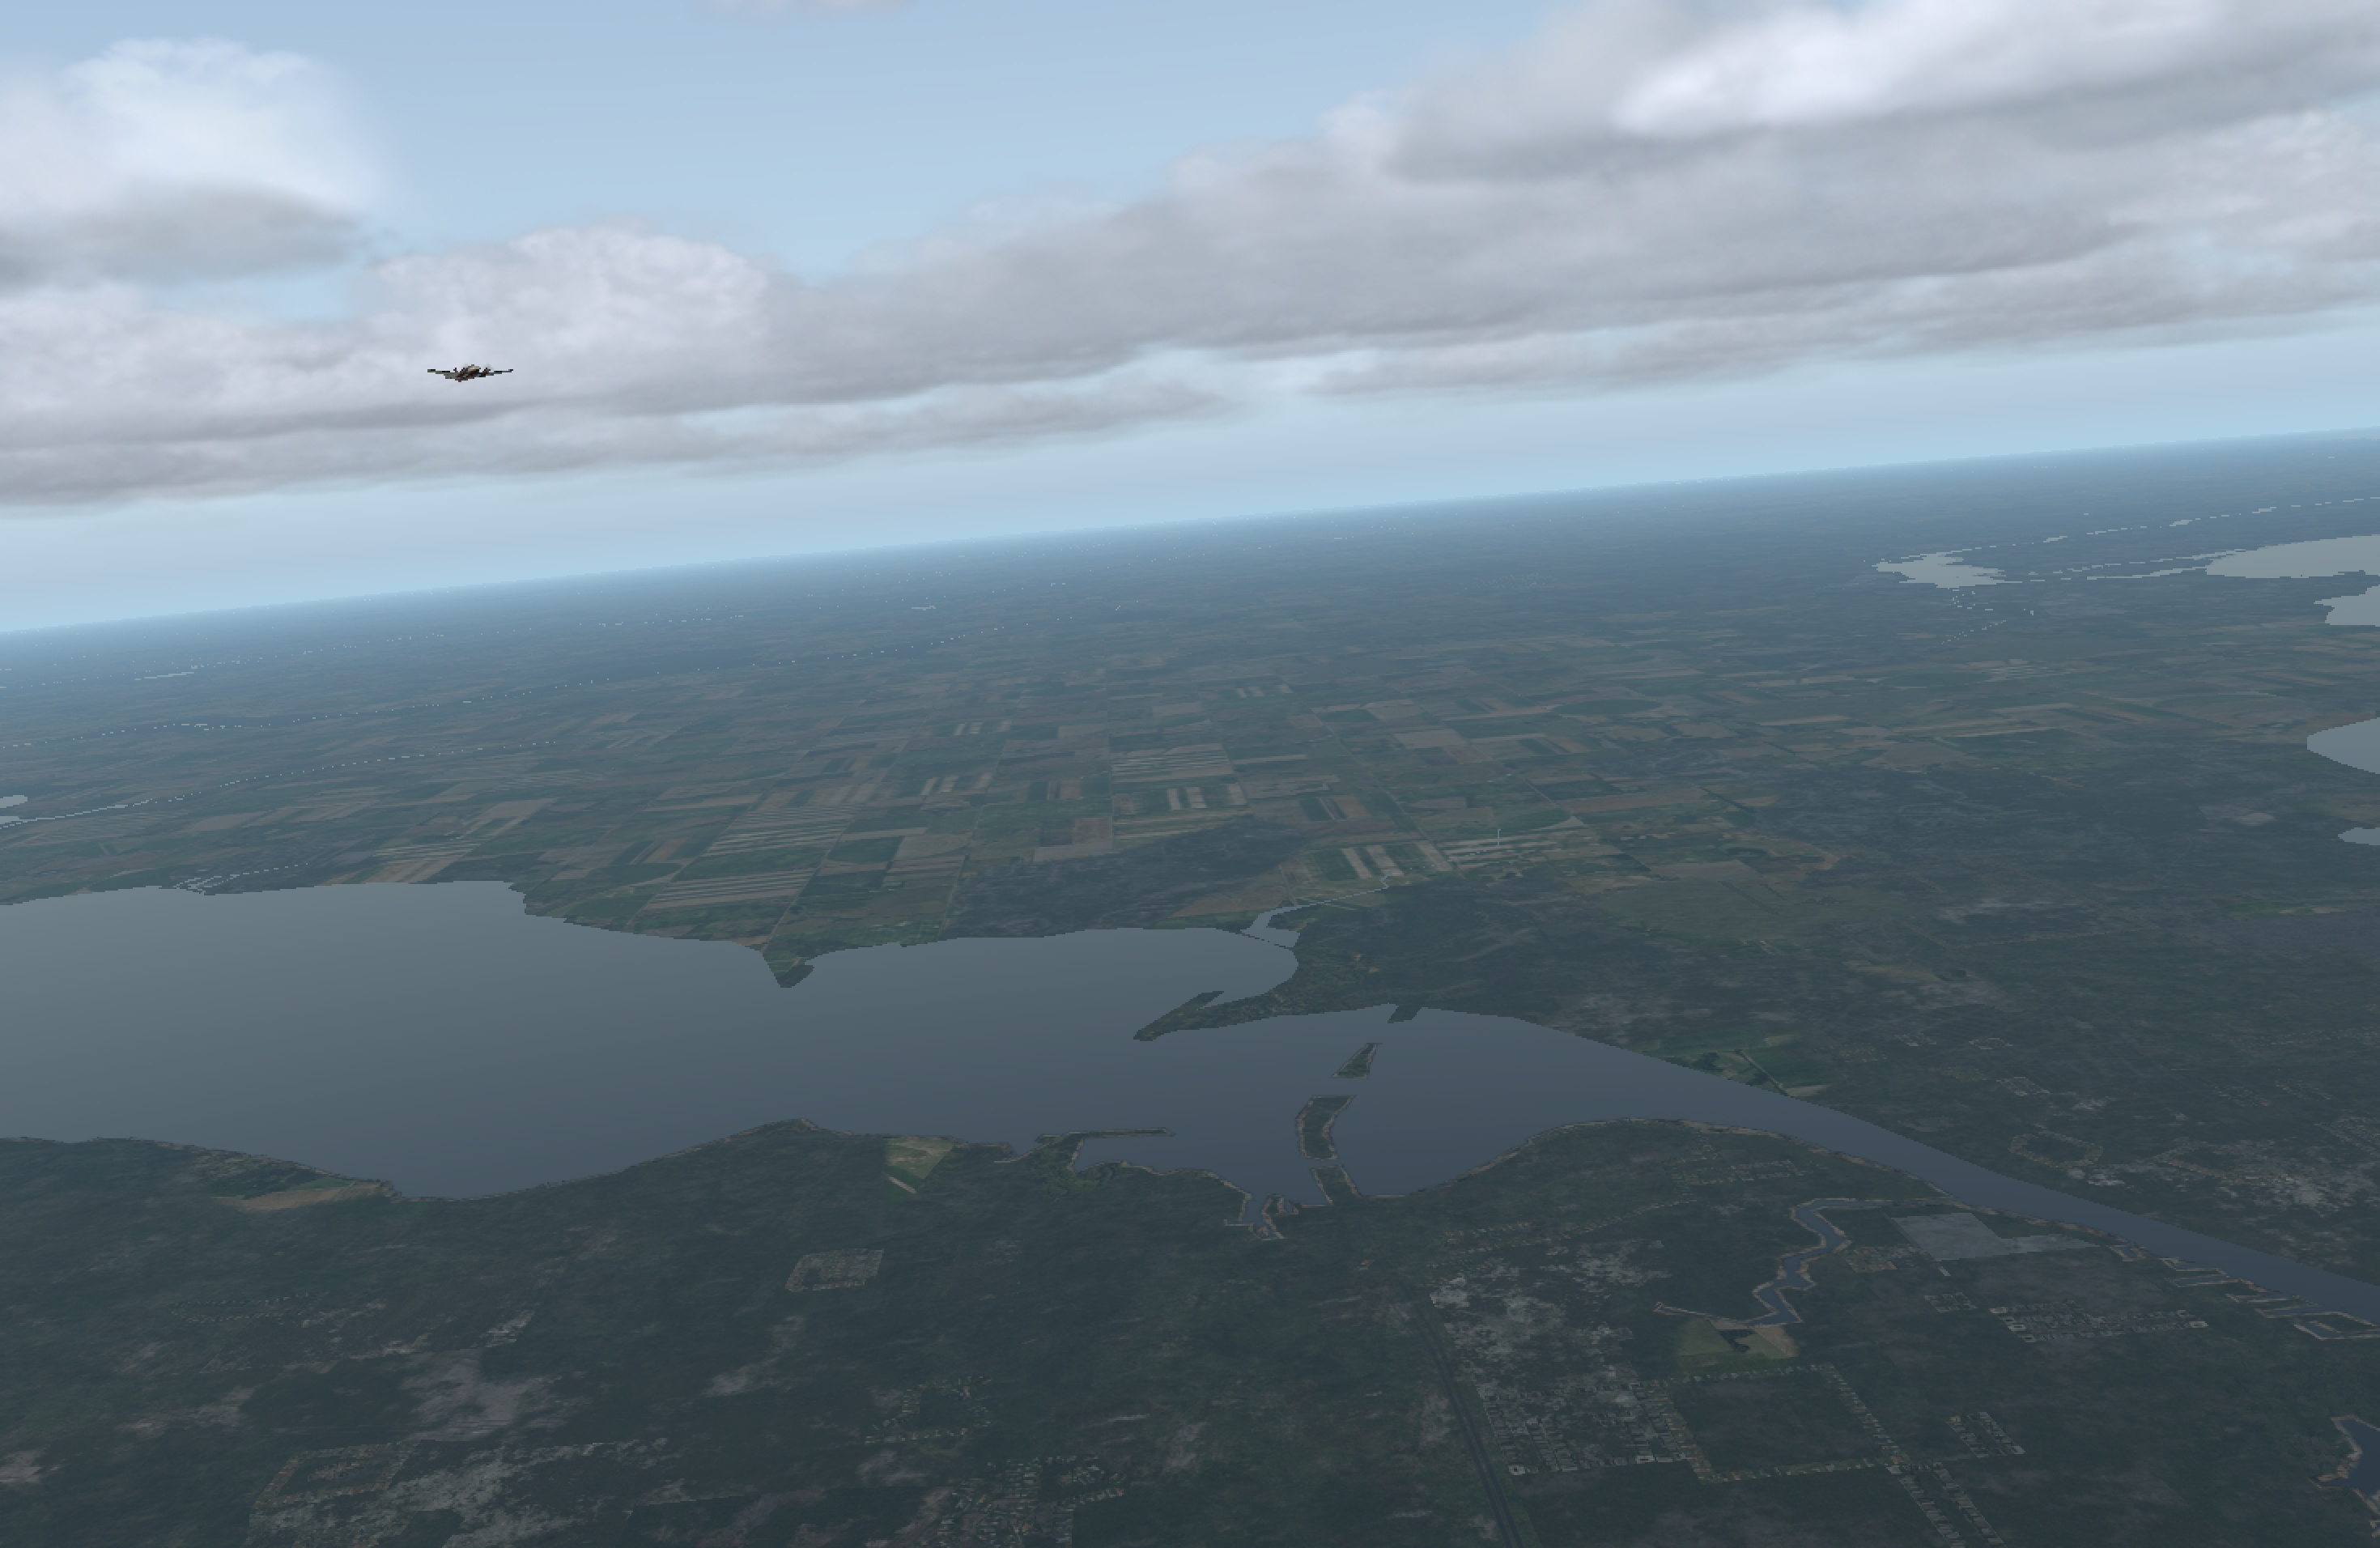aircraft: (430, 359, 513, 390)
